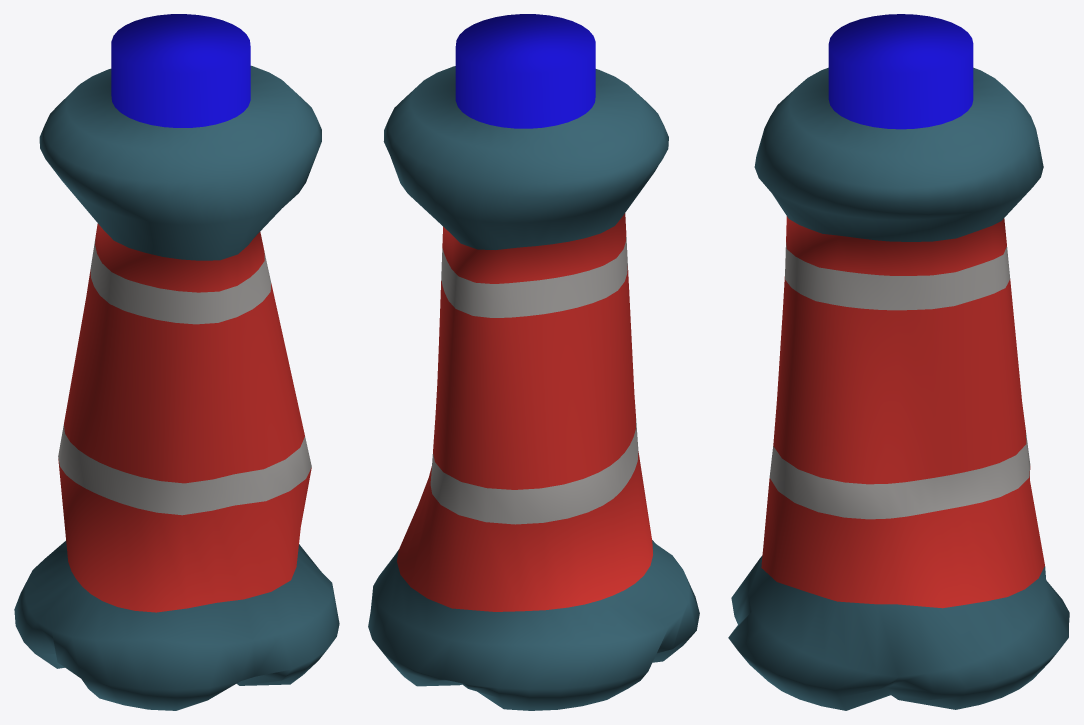
Rendered from WATER BOTTLE.fbx.
3 renders of one model, left to right at view 1: azimuth 30°, elevation 25°; view 2: azimuth 150°, elevation 25°; view 3: azimuth 270°, elevation 25°, orthographic.
Visible parts, largest first — view 1: Cube; view 2: Cube; view 3: Cube.
Boxes of the visible parts, x1,y1,x2,y2 form: Cube: (14, 14, 339, 710); Cube: (368, 14, 699, 710); Cube: (728, 14, 1069, 710).
Size of the model in its own units: 167 by 350 by 175.
